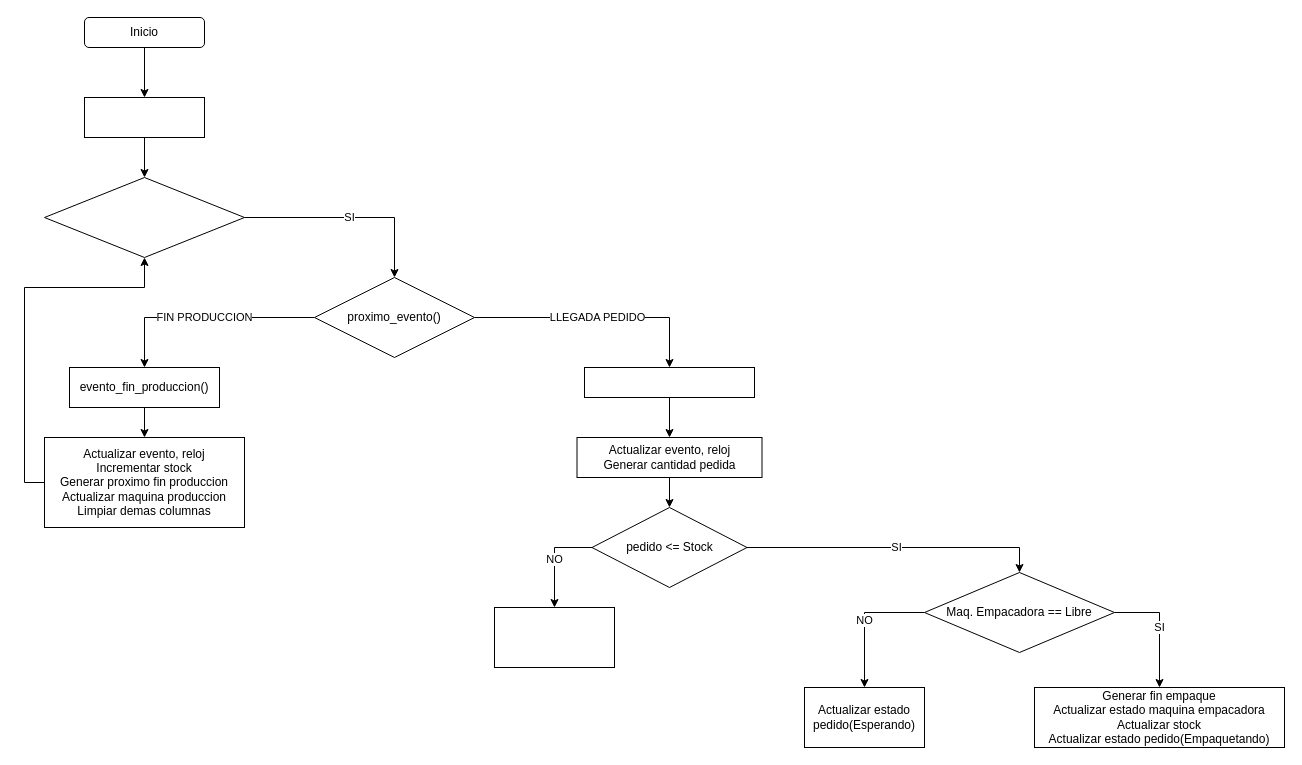
Some shapes in this 1302 by 765 pixel diagram are drawn without their labels. The centre of each missing label's shape, as x and y in pixels:
evento_inicio(): point (144, 117)
evento_llegada_pedido(): point (669, 382)
i <= tiempo_simular: point (144, 217)
Incrementar pedidos rechazados: point (554, 637)
